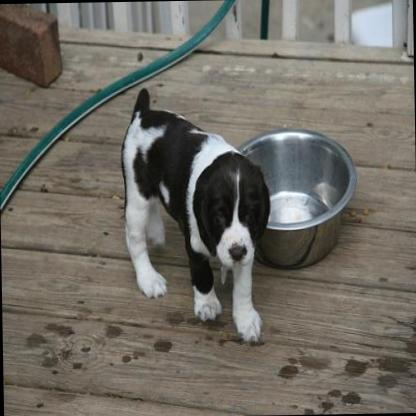English_springer: (116, 80, 276, 350)
